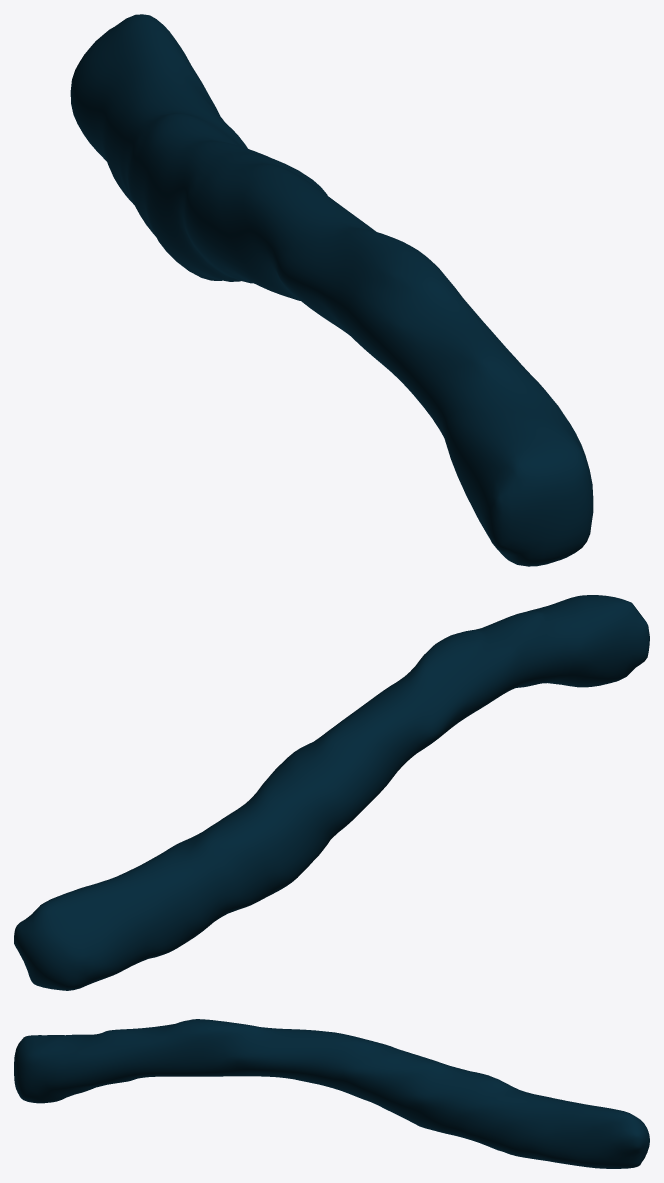
The model's file is right common carotid artery.obj.
3 views of the same model, one above another, from view 1: azimuth 30°, elevation 25°; view 2: azimuth 150°, elevation 25°; view 3: azimuth 270°, elevation 25° (orthographic). The views are drawn at different scales.
Visible parts, largest first — view 1: grp1; view 2: grp1; view 3: grp1.
Boxes of the visible parts, x1=… form: grp1: x1=70, y1=14, x2=593, y2=566; grp1: x1=14, y1=595, x2=649, y2=990; grp1: x1=14, y1=1019, x2=649, y2=1168.
Size of the model in its own units: 20.38 by 15.01 by 78.45.
